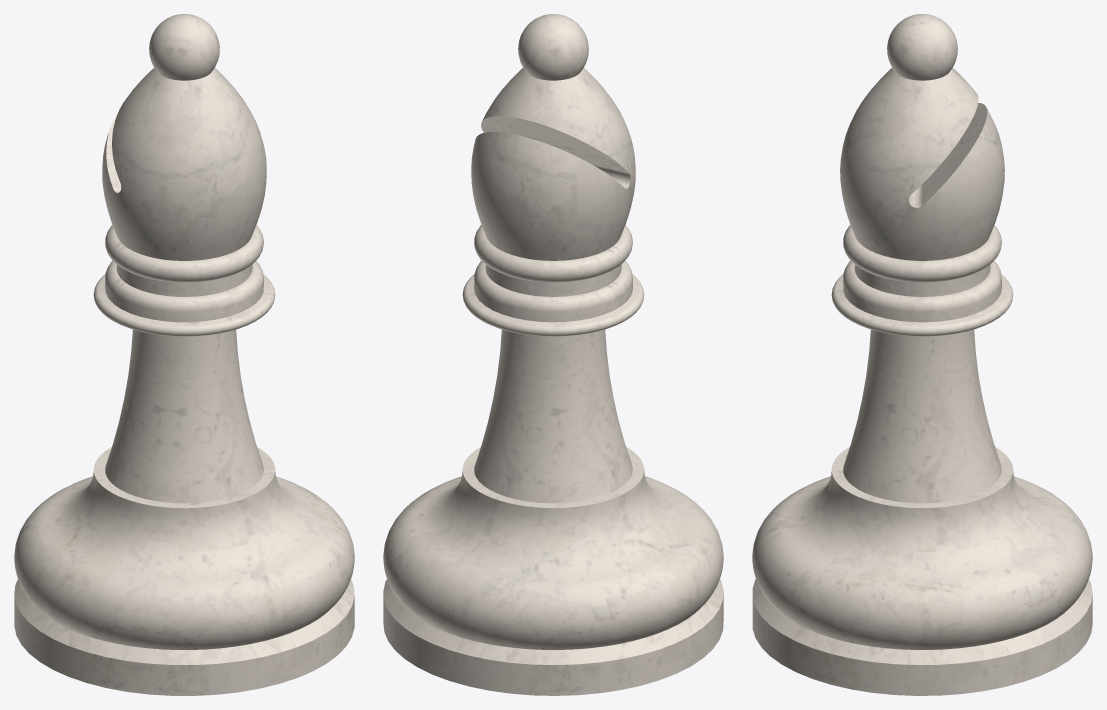
File: White-Bishop.glb
3 renders of one model, left to right at view 1: azimuth 30°, elevation 25°; view 2: azimuth 150°, elevation 25°; view 3: azimuth 270°, elevation 25°, orthographic.
Parts seen in each view (by area): view 1: ASSET_Joined; view 2: ASSET_Joined; view 3: ASSET_Joined.
Part boxes in pixels (x1,y1,x2,y2): ASSET_Joined: (14,14,354,695); ASSET_Joined: (383,14,723,695); ASSET_Joined: (752,14,1092,695).
Bounding box in the file's own units: 30.49 × 60 × 30.5.
Materials: 1 (1 with a texture image).
